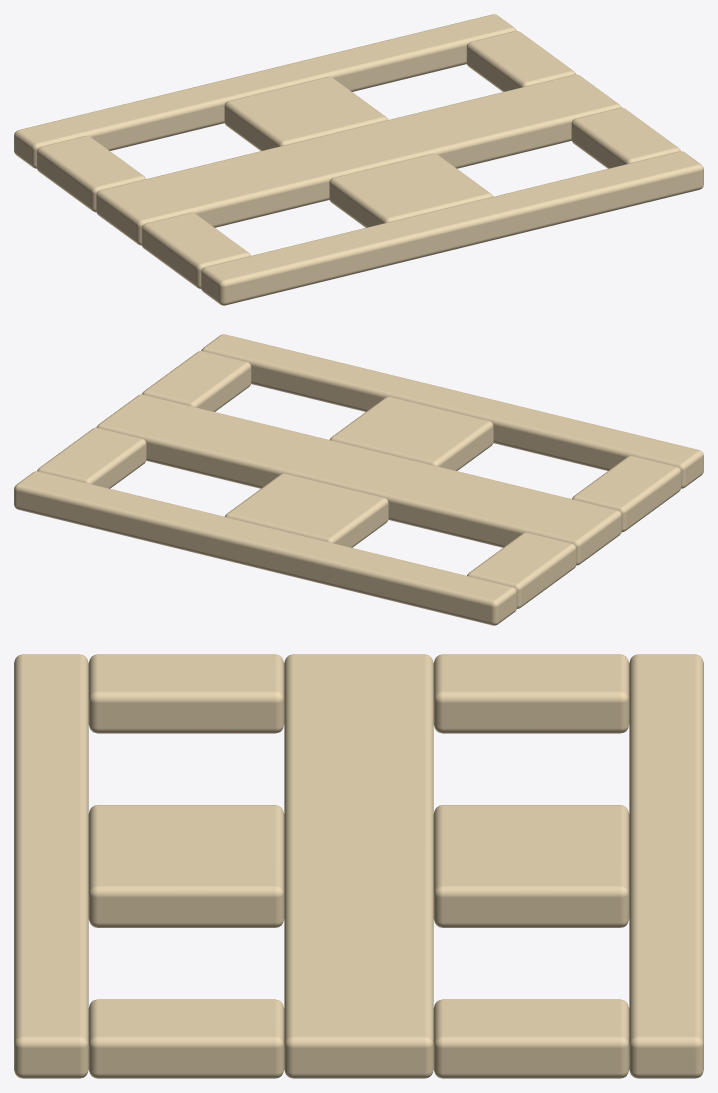
Rendered from marquetry-and-veneer-inlay-workshop-original-botanical-a95e6386__39105.glb.
3 renders of one model, top to bottom at view 1: azimuth 30°, elevation 25°; view 2: azimuth 150°, elevation 25°; view 3: azimuth 270°, elevation 25°, orthographic. The views are drawn at different scales.
Parts seen in each view (by area): view 1: original-botanical-window-cut-ground; view 2: original-botanical-window-cut-ground; view 3: original-botanical-window-cut-ground.
Boxes of the visible parts, box(x1,y1,x2,y2) form: original-botanical-window-cut-ground: box(14, 14, 703, 305); original-botanical-window-cut-ground: box(14, 334, 703, 625); original-botanical-window-cut-ground: box(14, 654, 703, 1078).
Size of the model in its own units: 0.4 by 0.02 by 0.3.
